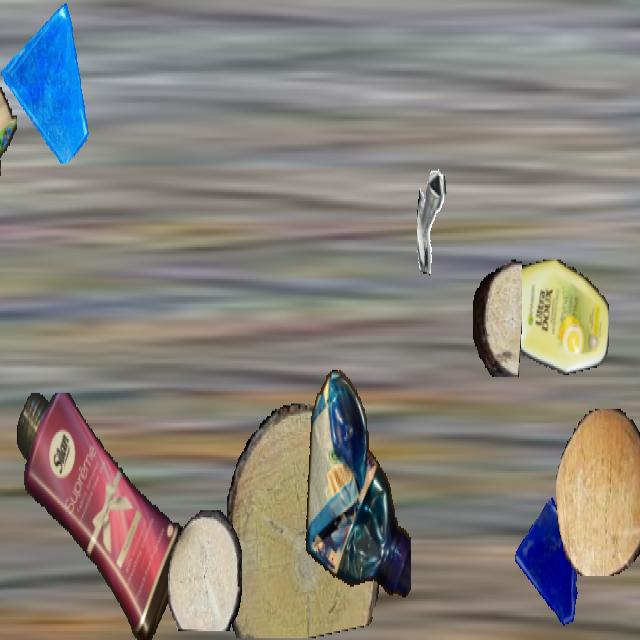glass: (1, 2, 91, 162), (513, 498, 591, 636)
metal: (417, 169, 479, 279)
plastic: (16, 393, 188, 638), (302, 366, 410, 608), (496, 259, 608, 377), (0, 2, 17, 247)
wood: (223, 404, 383, 638), (556, 409, 640, 576), (168, 510, 242, 631), (473, 258, 521, 375)
